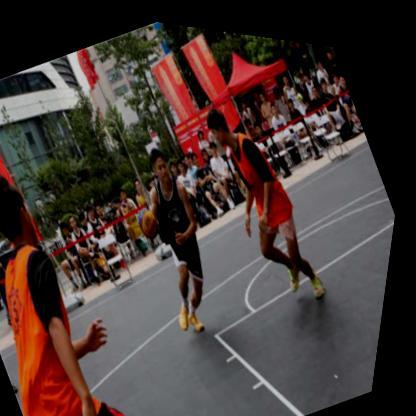basketball: (137, 198, 172, 239)
